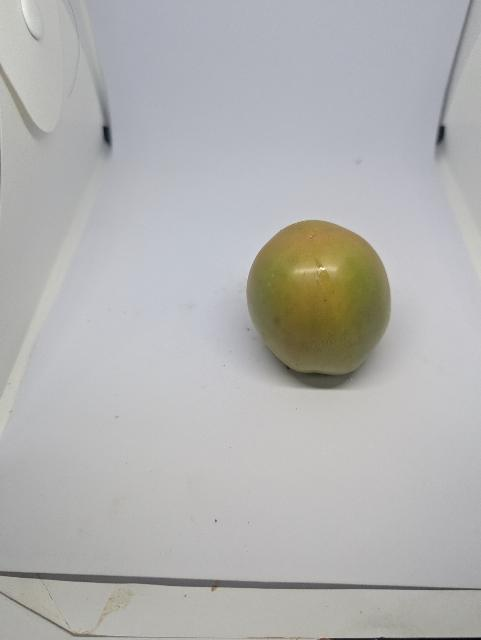breaker: (247, 221, 391, 375)
